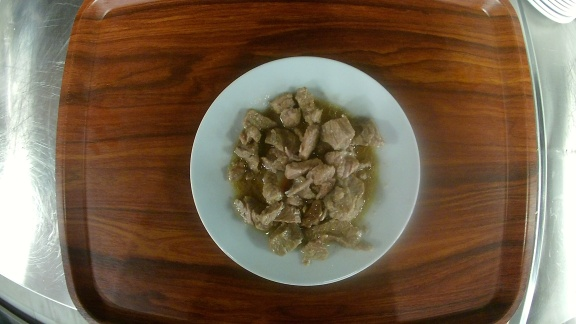etsote: (188, 55, 421, 288)
